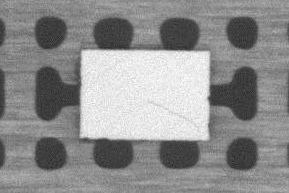DIE_CRACK: (147, 99, 199, 131)
